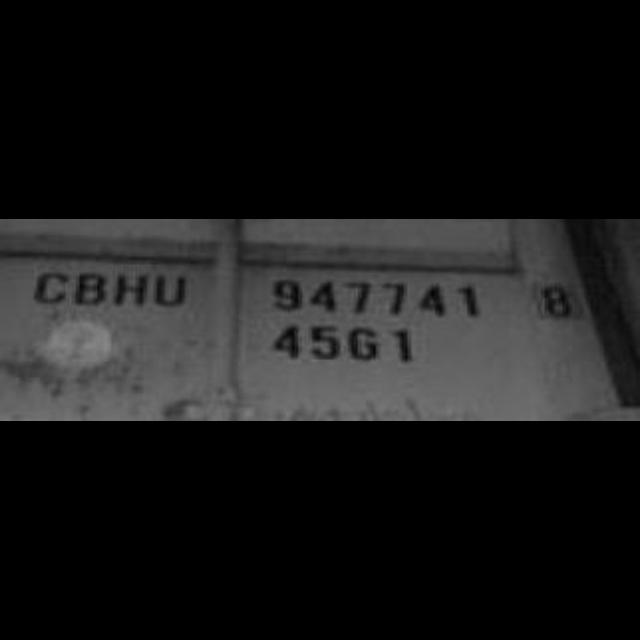1: (452, 275, 488, 327), (386, 321, 420, 371)
4: (268, 317, 308, 368), (308, 272, 342, 321), (416, 280, 452, 326)
5: (306, 318, 344, 366)
7: (378, 274, 412, 322), (344, 272, 376, 322)
8: (534, 276, 576, 326)
9: (265, 272, 307, 320)
b: (71, 264, 109, 312)
c: (31, 262, 69, 308)
g: (342, 319, 382, 367)
h: (112, 264, 152, 314)
u: (153, 262, 191, 314)
